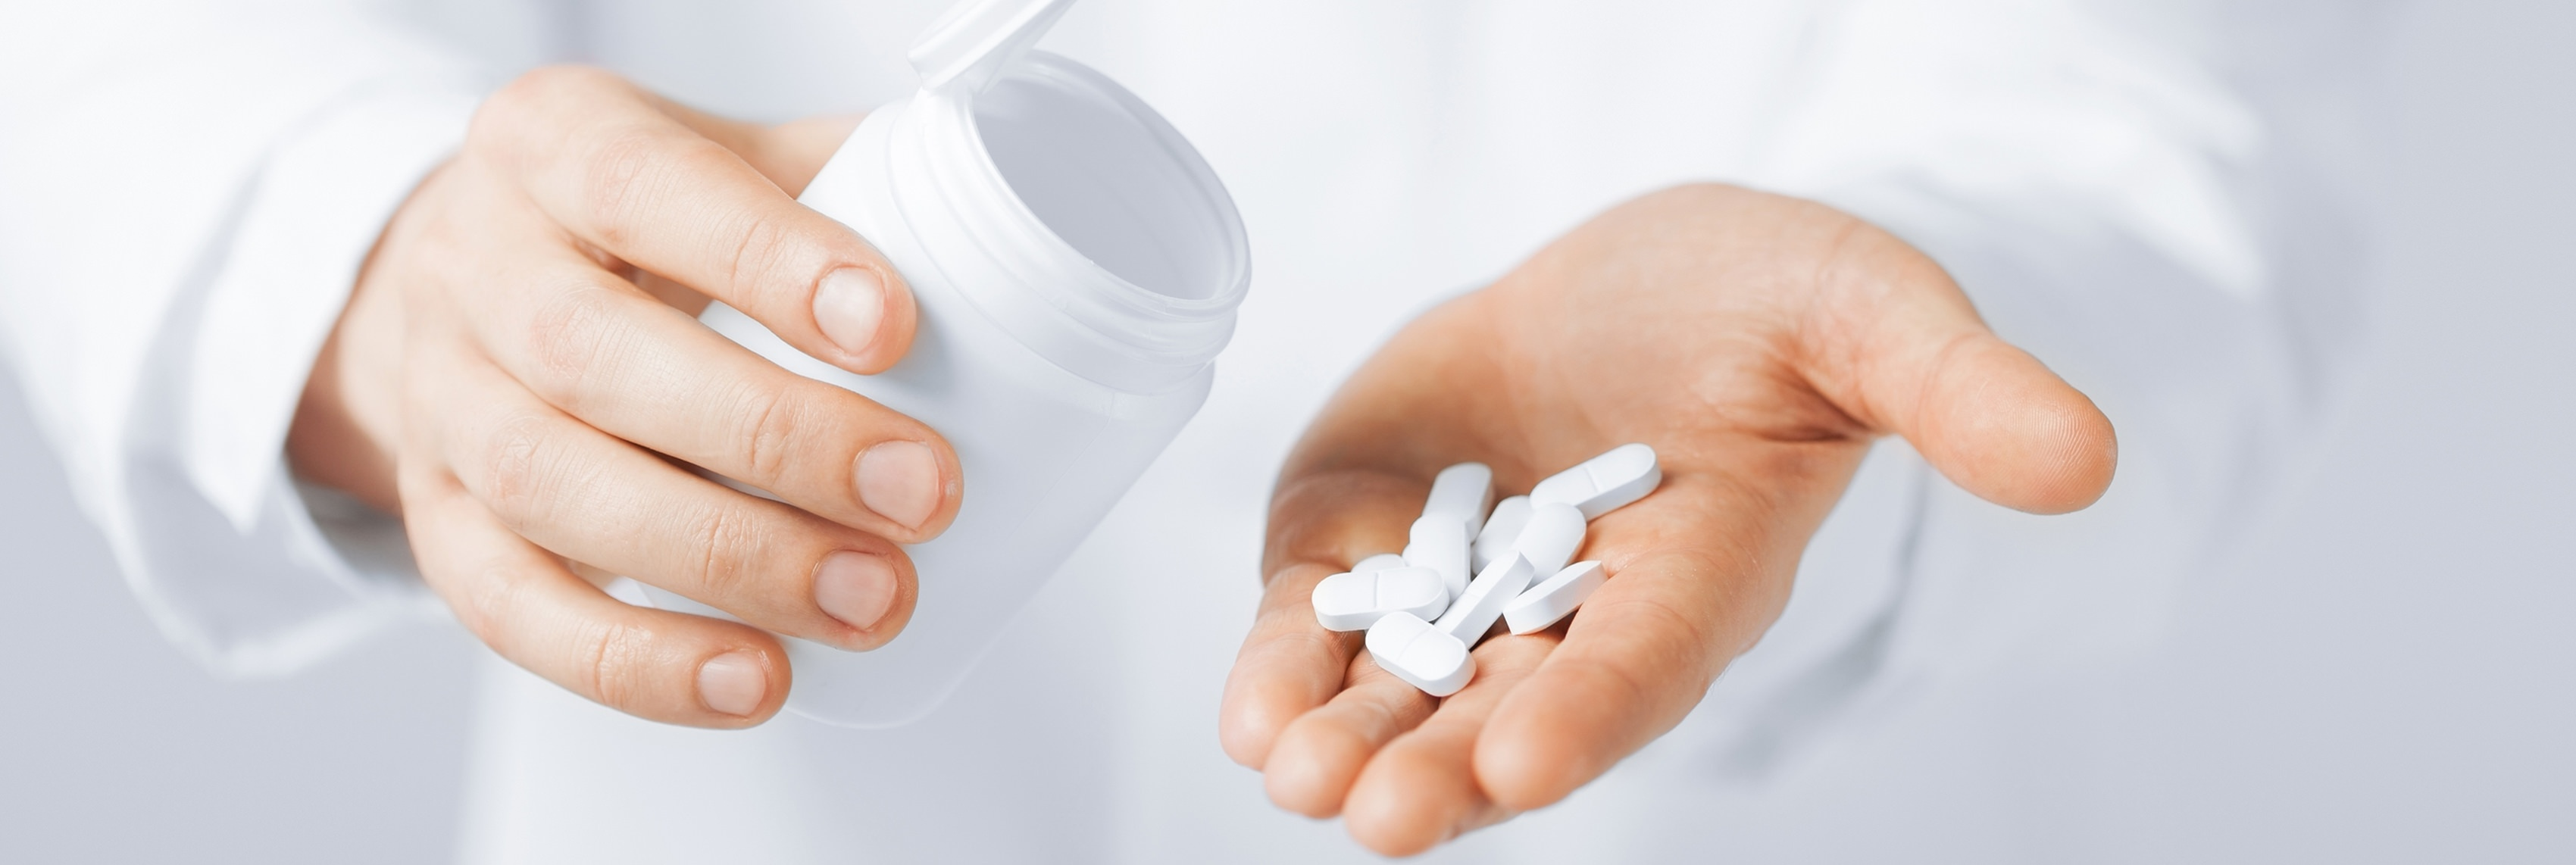pills: (1528, 422, 1672, 519), (1493, 553, 1620, 648), (1405, 451, 1502, 566), (1283, 570, 1457, 625), (1370, 614, 1454, 696)
